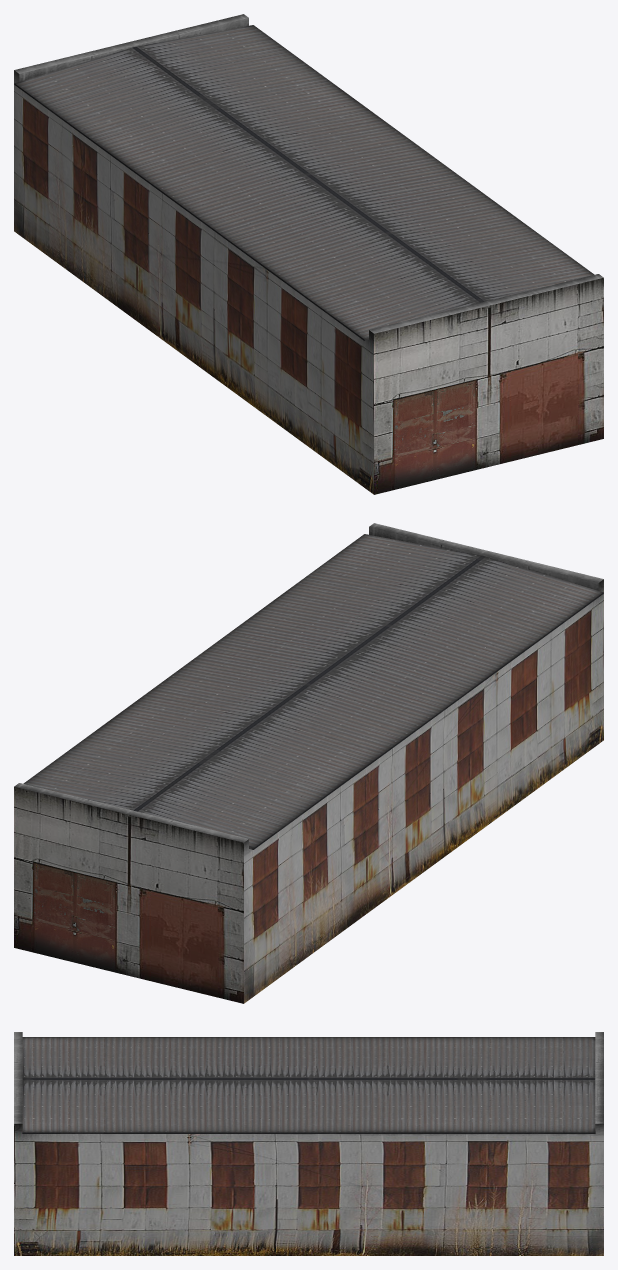
File: sibir_angar.FBX
3 views of the same model, one above another, from view 1: azimuth 30°, elevation 25°; view 2: azimuth 150°, elevation 25°; view 3: azimuth 270°, elevation 25° (orthographic). The views are drawn at different scales.
Parts seen in each view (by area): view 1: sibir_angar; view 2: sibir_angar; view 3: sibir_angar.
Part boxes in pixels (x1,y1,x2,y2): sibir_angar: (14,14,603,494); sibir_angar: (14,523,603,1003); sibir_angar: (14,1032,603,1255).
Size of the model in its own units: 1224 by 3194 by 788.
